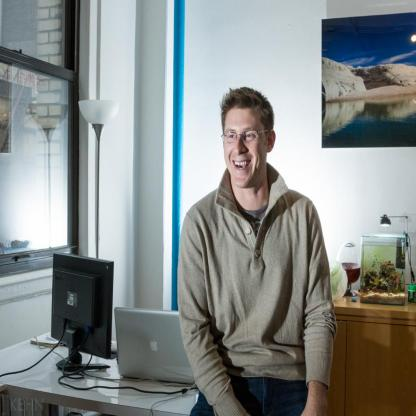board: (104, 308, 195, 390)
